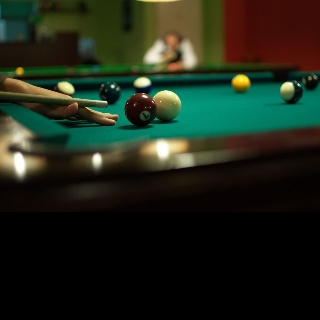without_mask: (162, 28, 182, 48)
